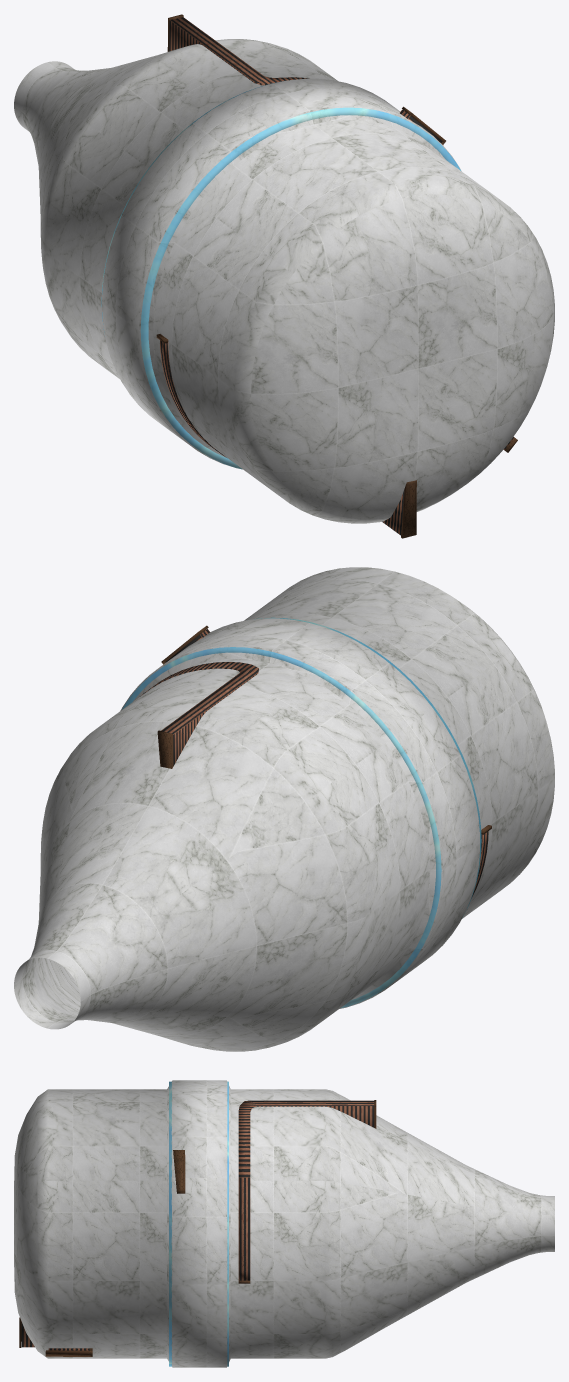
Rendered from bottle.glb.
3 renders of one model, top to bottom at view 1: azimuth 30°, elevation 25°; view 2: azimuth 150°, elevation 25°; view 3: azimuth 270°, elevation 25°, orthographic. The views are drawn at different scales.
Visible parts, largest first — view 1: Circle, Water, Wall Two, Wall One, Cylinder.006; view 2: Circle, Water, Wall Two; view 3: Circle, Wall Two, Water, Cylinder.001.
Part boxes in pixels (x1,y1,x2,y2): Circle: (14, 39, 554, 523); Water: (101, 81, 460, 469); Wall Two: (169, 17, 309, 85); Wall One: (160, 340, 404, 535); Cylinder.006: (156, 334, 416, 538); Circle: (14, 567, 554, 1051); Water: (122, 617, 481, 1008); Wall Two: (140, 662, 258, 766); Circle: (14, 1080, 554, 1367); Wall Two: (238, 1100, 374, 1280); Water: (169, 1081, 228, 1366); Cylinder.001: (45, 1150, 185, 1356).
Bounding box in the file's own units: 132 × 132 × 248.
6 materials, 5 textured.
